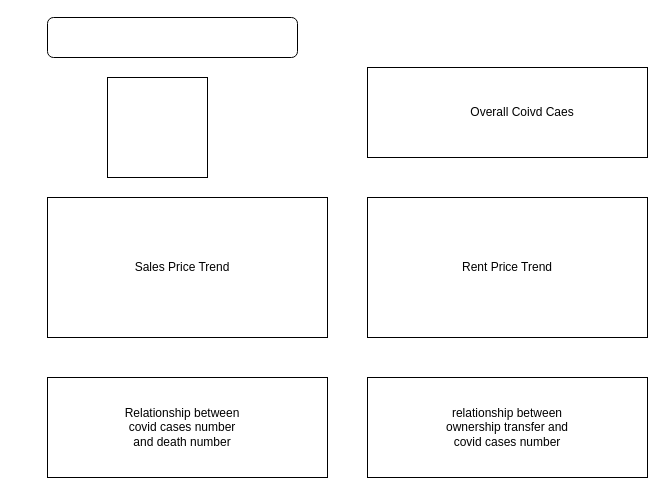
This 665x495 diagram has some shape labels left out. Each missing label, with the box of its shape:
How Covid Impact on NYC Real Estate?: (46, 16, 298, 58)
picture: (106, 76, 208, 178)
